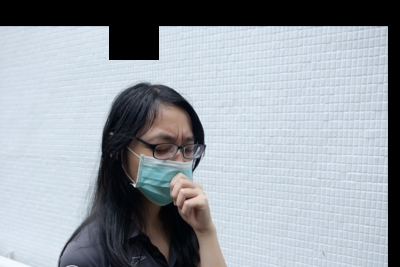with_mask: (129, 131, 196, 209)
